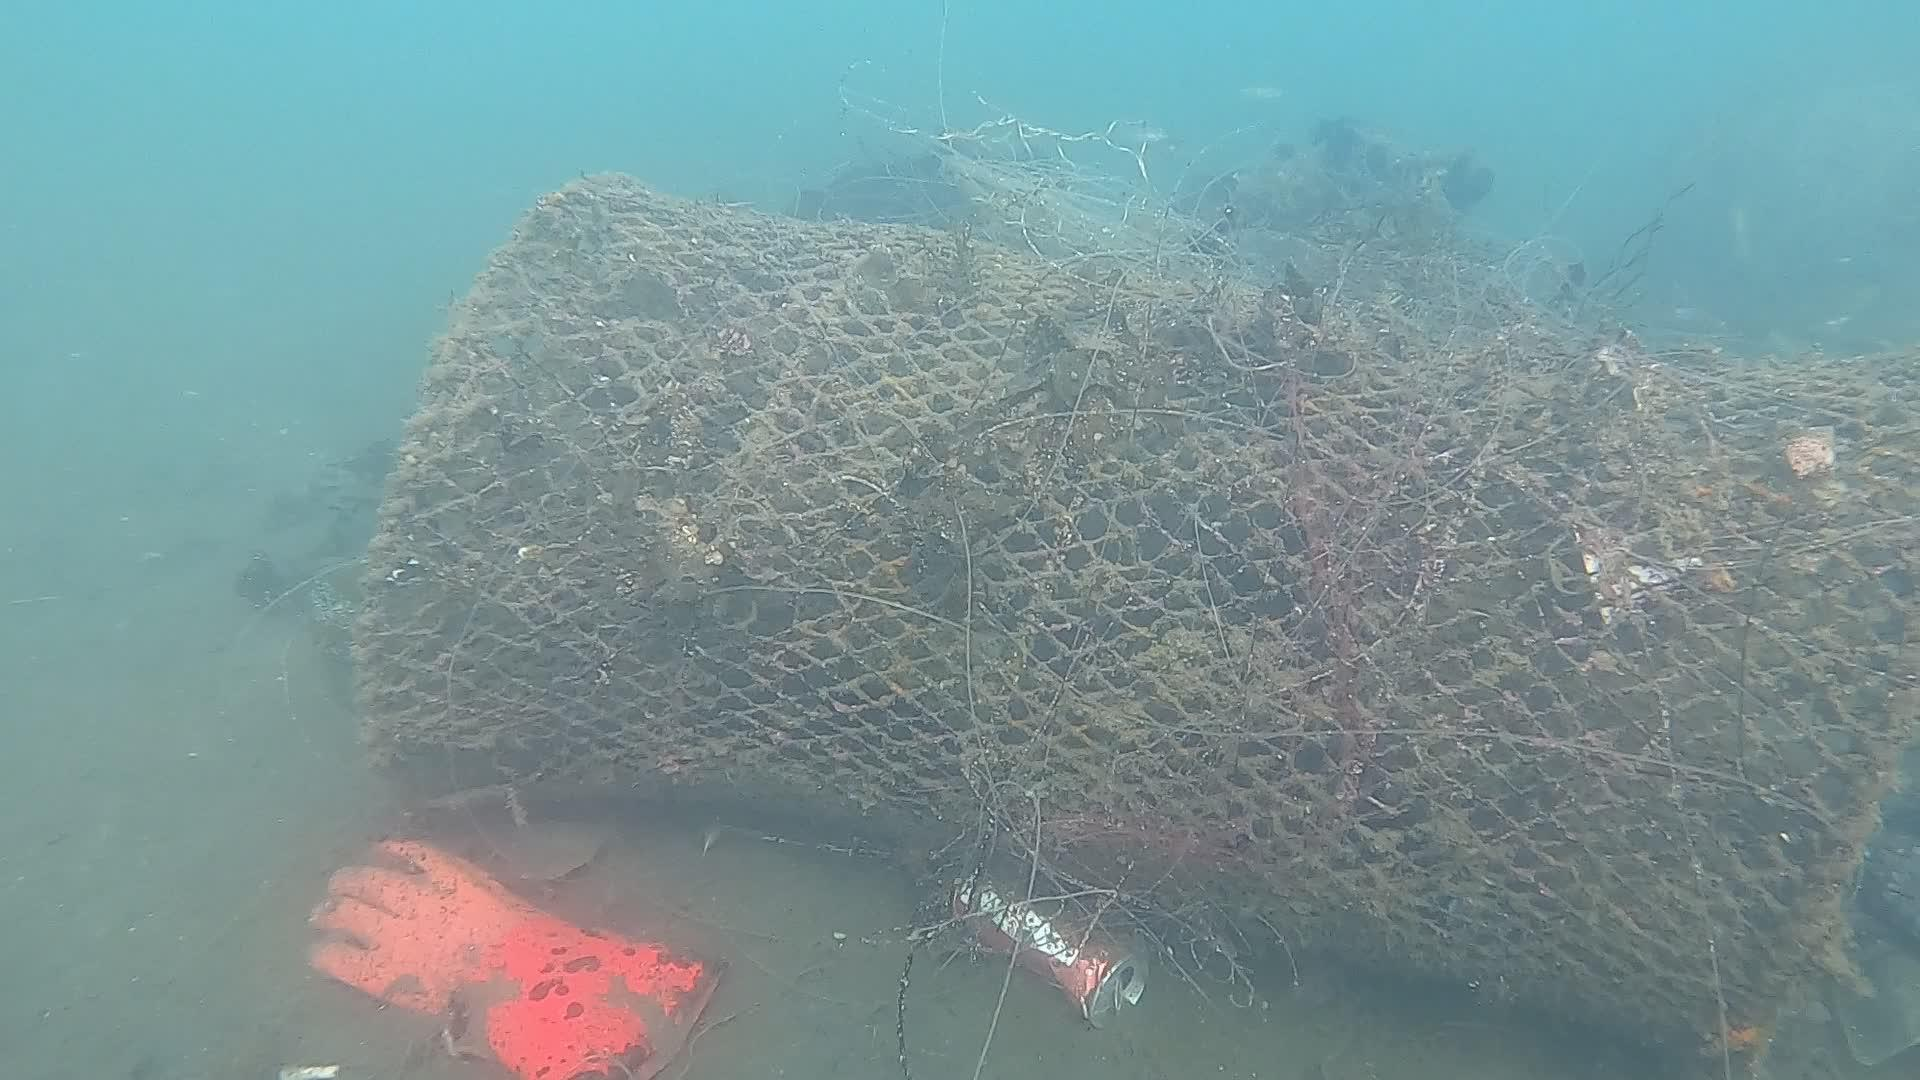spring fish trap: (351, 169, 1920, 1080)
